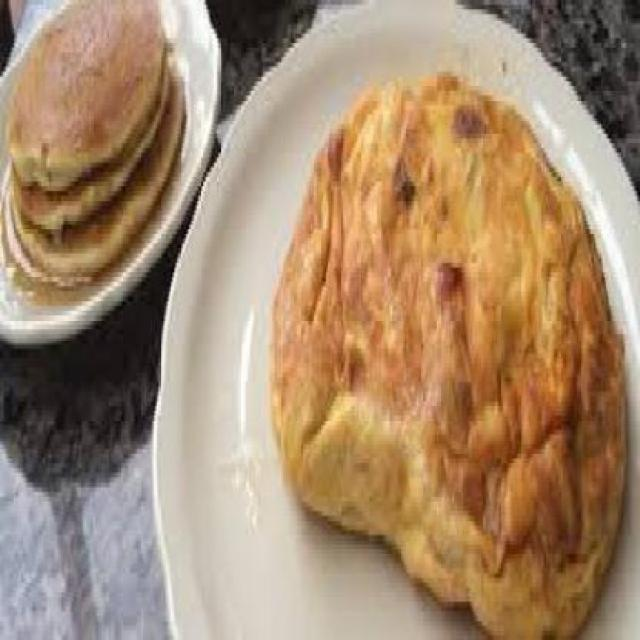omelette: (264, 62, 630, 636)
